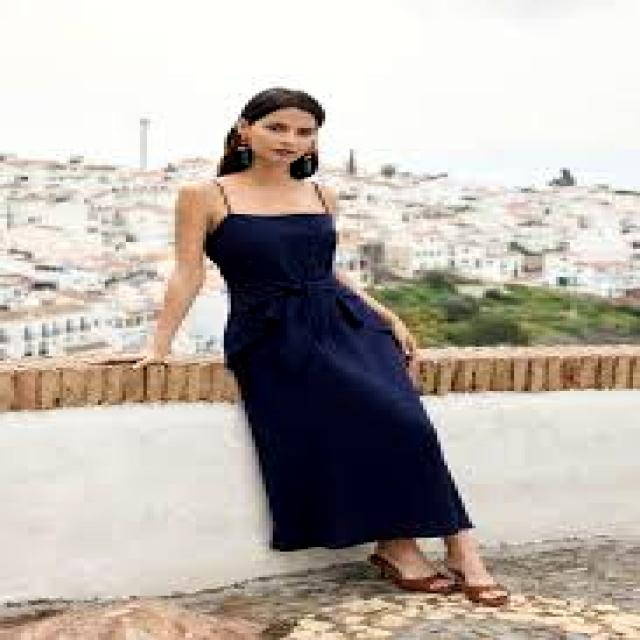dress: (207, 180, 472, 551)
foot-wear: (368, 554, 458, 595), (445, 564, 510, 605)
